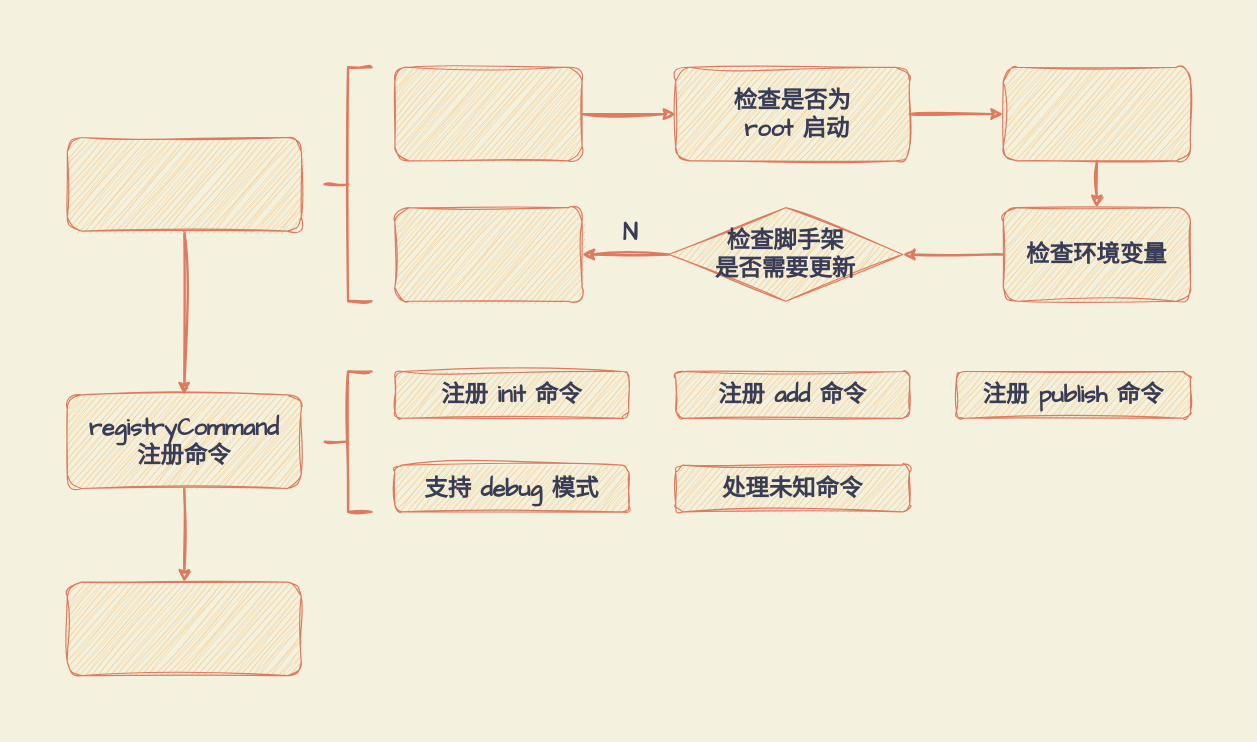
Image size: 1257x742. Some labels were removed from this diagram. The shapes that lost their labels are listed below. From the top down, each one's box as (x1, y1, x2, y2) in pixels, then its label:
(394, 66, 582, 161): 检查版本号
(1002, 66, 1190, 161): 检查用户 主目录
(66, 136, 301, 231): prepare 前置准备
(394, 207, 582, 301): 提示进行脚手架更新
(66, 581, 301, 676): execCommand 执行命令逻辑
